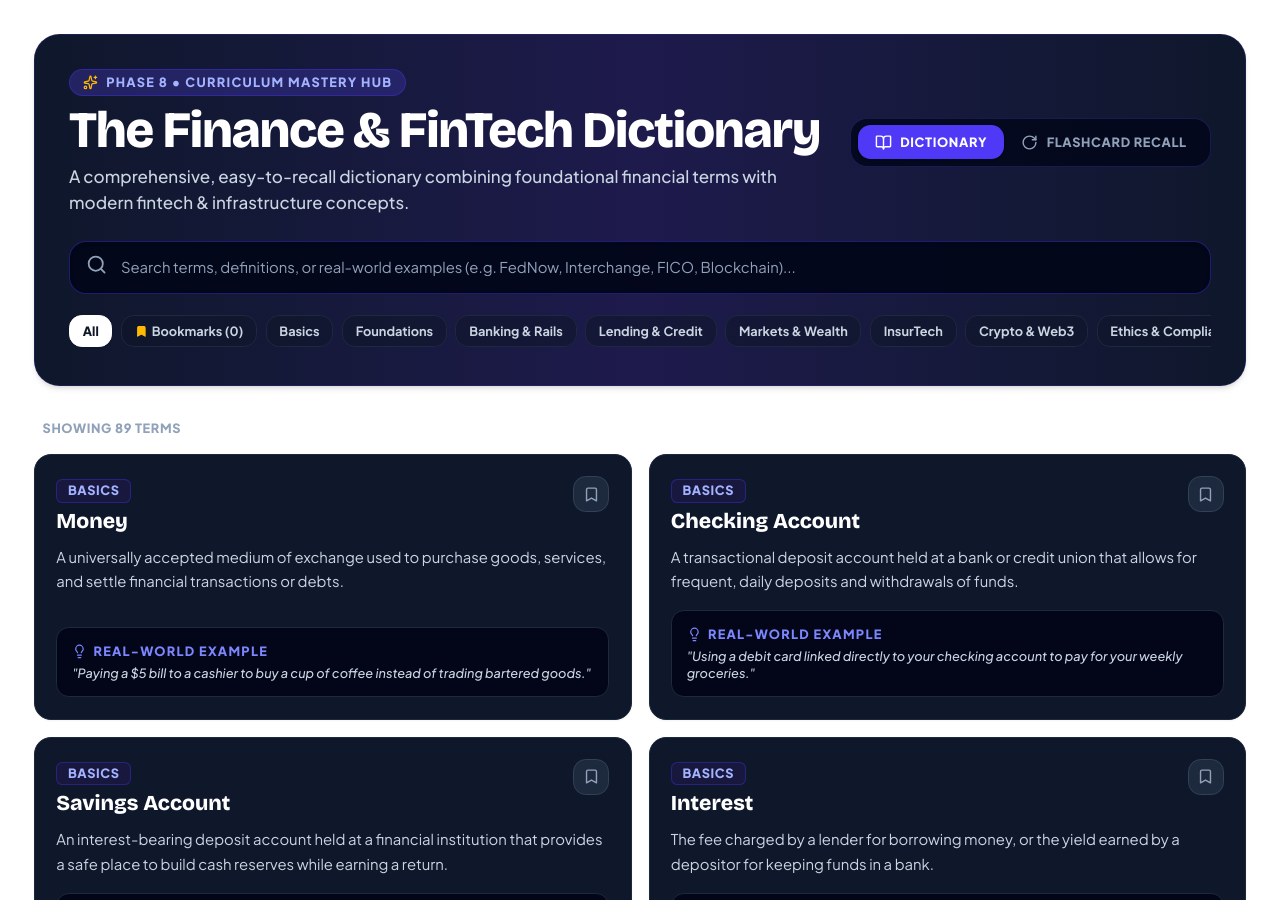
Test case: FinanceGlossary › switches to flashcards mode
Click the button "Flashcard Recall": (1104, 142) [1004, 125, 1204, 159]
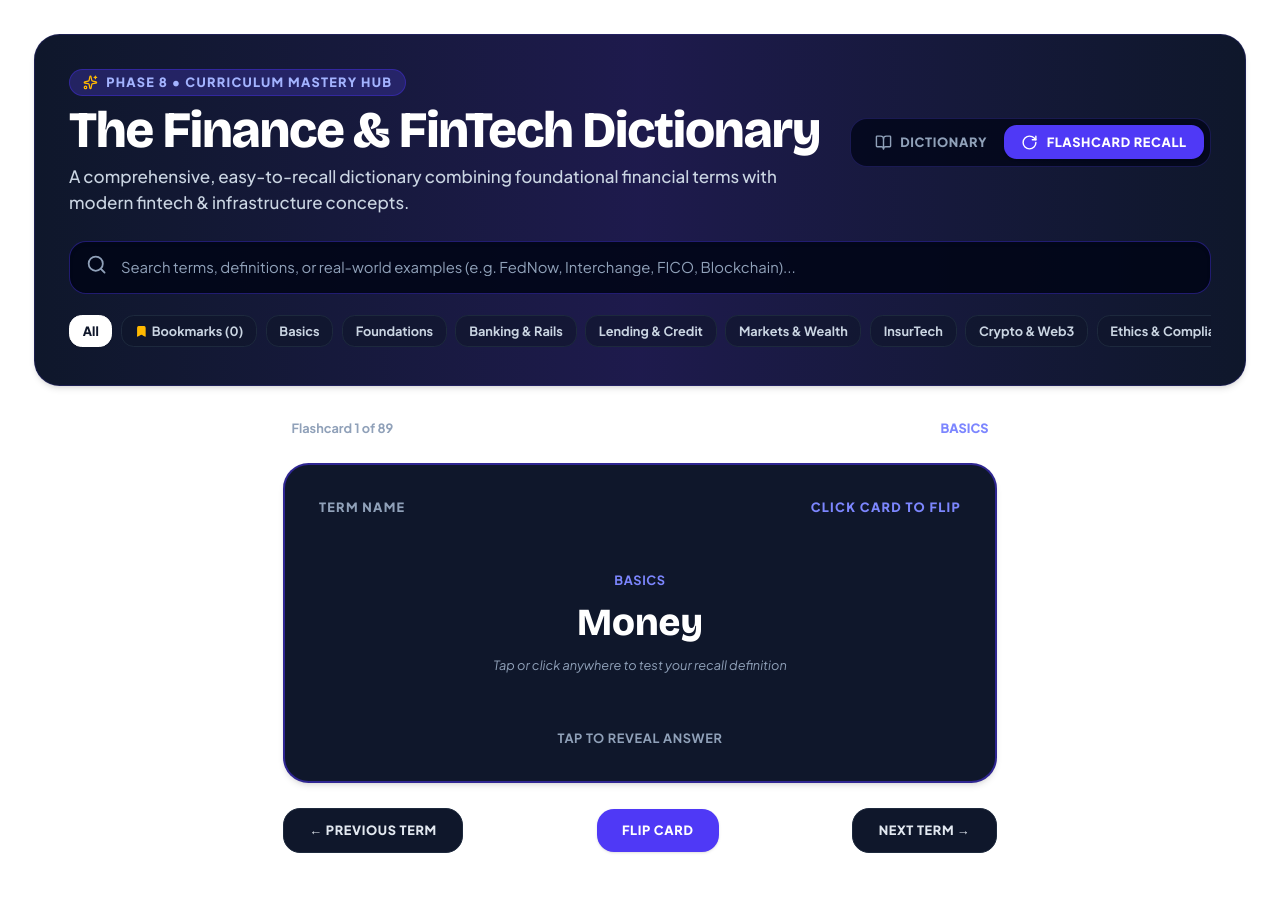
Check: the text "Click Card to Flip" is shown, box [811, 499, 961, 516]
